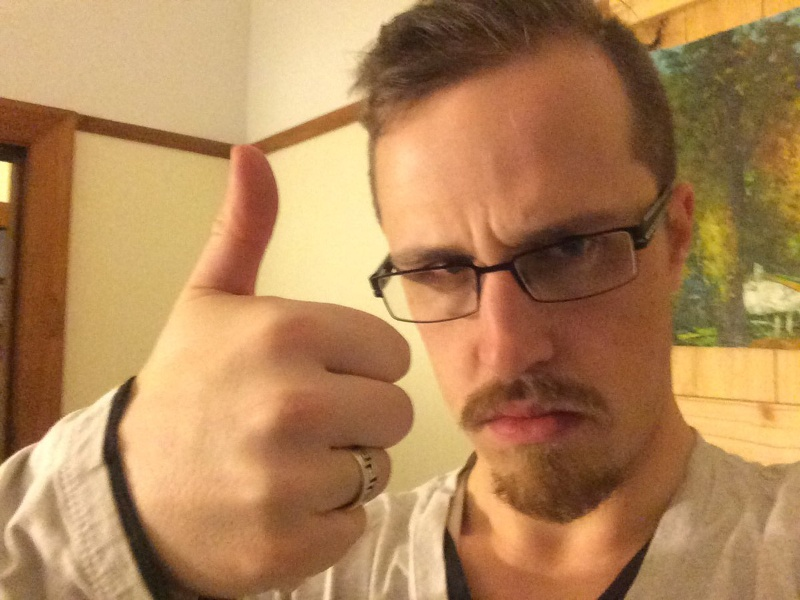thumbup: (146, 144, 411, 599)
